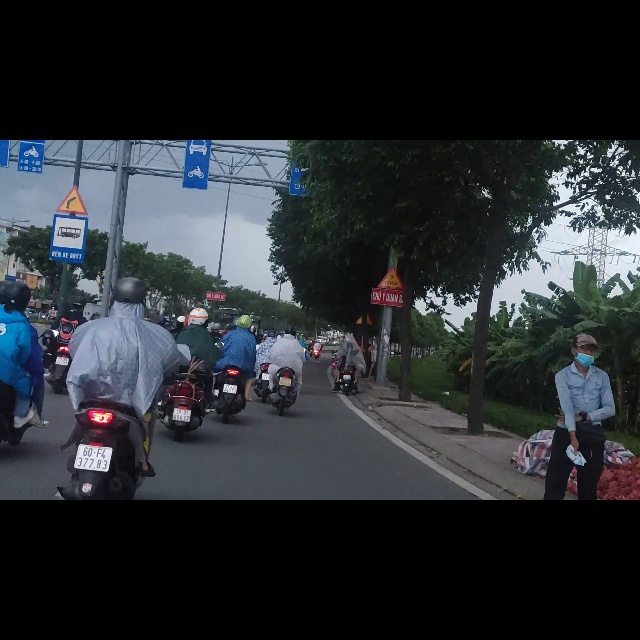bien_chi_dan: (50, 132, 87, 221), (54, 79, 89, 133), (377, 223, 403, 264)
